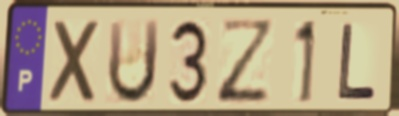1: (292, 18, 318, 106)
3: (164, 16, 213, 109)
L: (336, 21, 380, 103)
U: (104, 16, 162, 108)
X: (48, 17, 105, 108)
Z: (215, 16, 278, 108)
